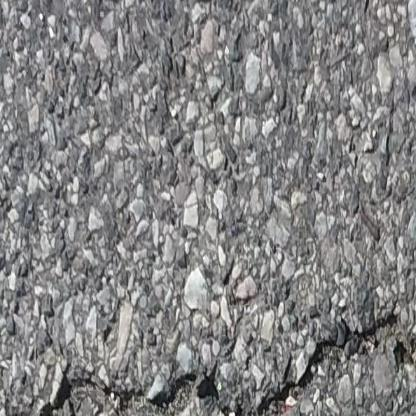Cracks: (257, 323, 416, 416), (12, 364, 241, 416)
